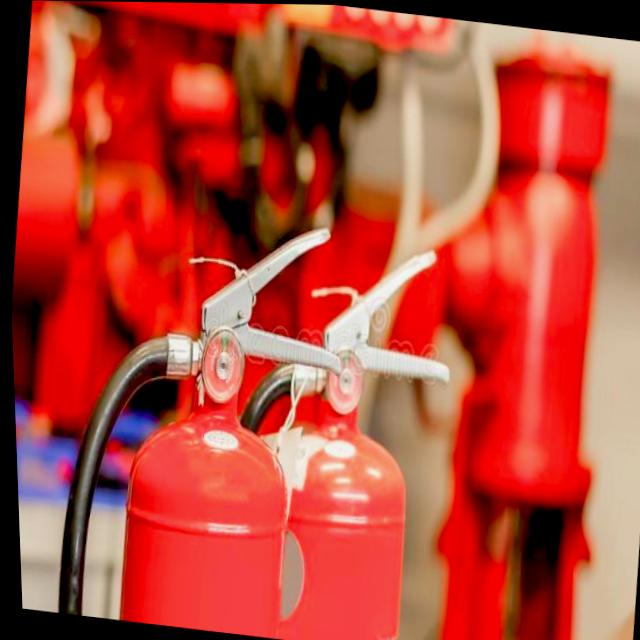FireExtinguisher: (34, 191, 365, 640), (187, 219, 471, 640)
